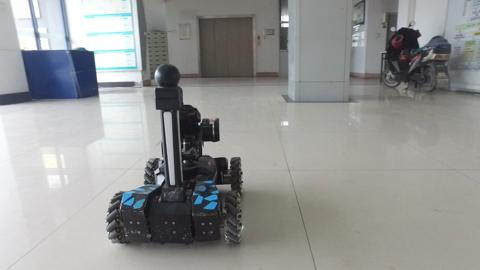chariot: (91, 54, 274, 253)
